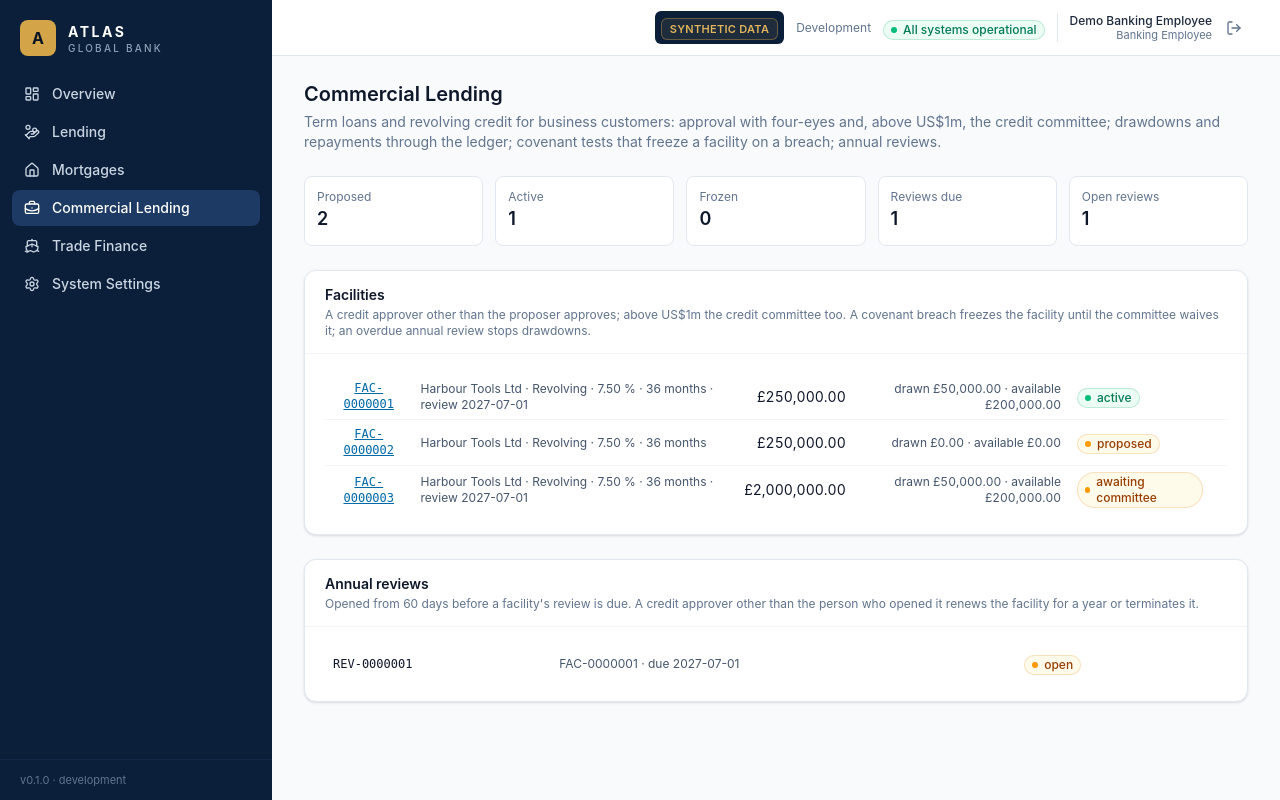
Commercial Lending page › is read-only without the permissions
The image size is (1280, 800).
Click the button with aria-label "Select FAC-0000001" at point(369, 396), box [333, 380, 404, 412]
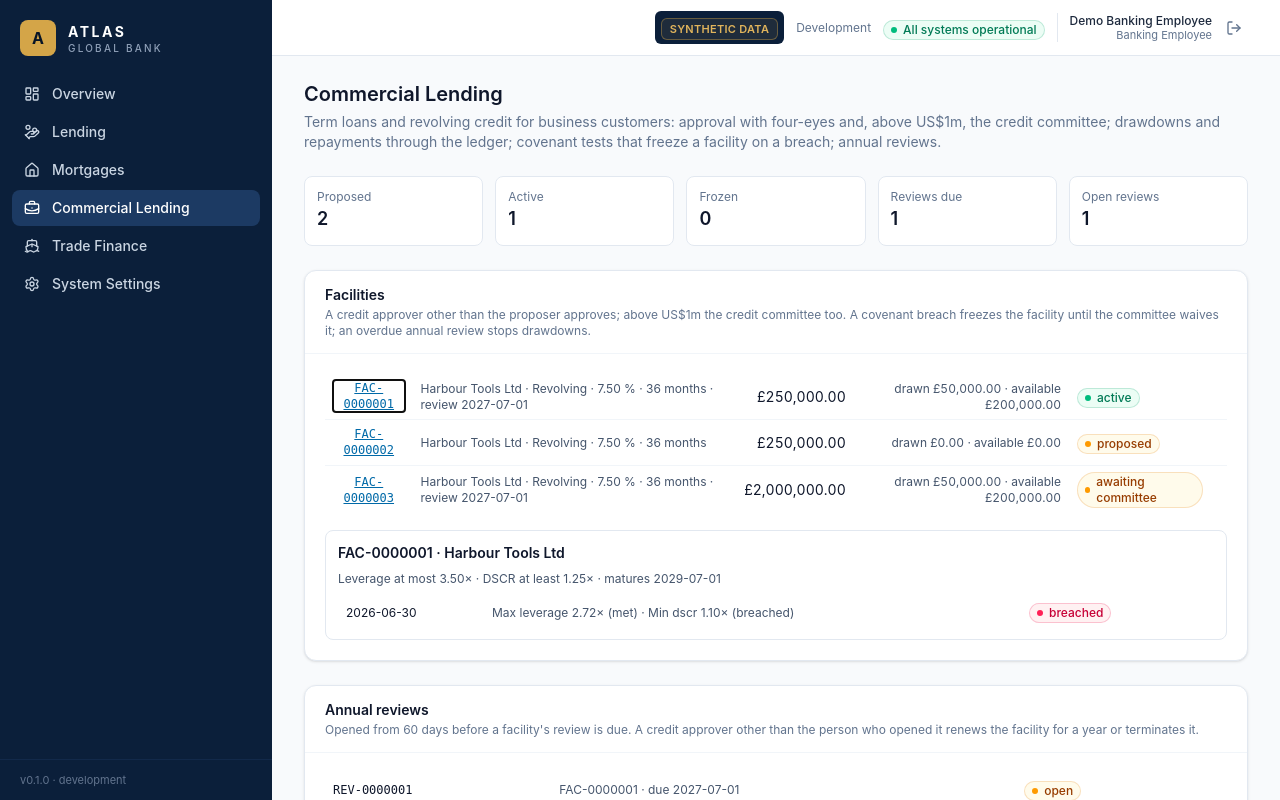
Expected: the element named "Facility FAC-0000001" is shown, [325, 530, 1227, 640]
